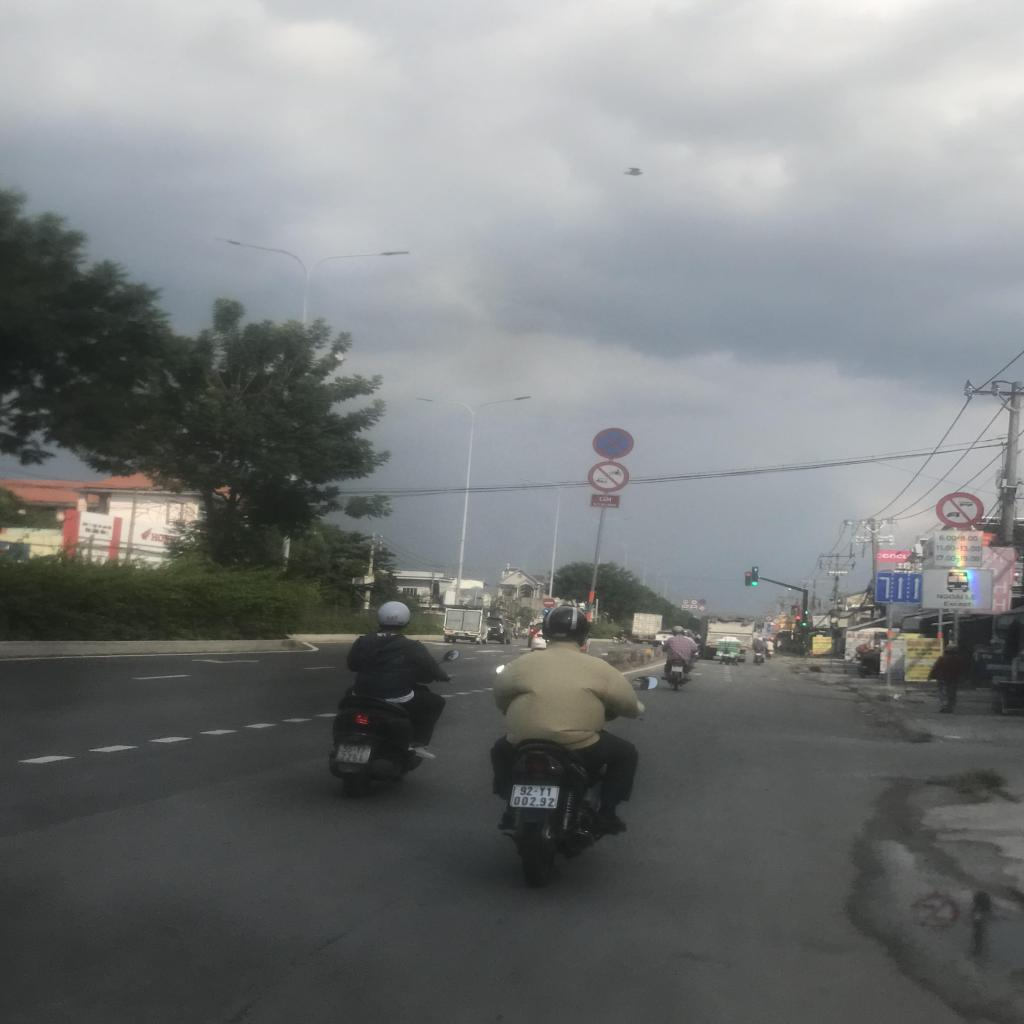cam_cac_loai_xe_3_banh: (774, 618, 780, 624)
cam_dung_xe_va_do_xe: (592, 428, 634, 459), (699, 599, 707, 605)
cam_o_to_tai_va_xe_khach: (934, 492, 984, 528), (765, 616, 772, 622)
cam_xe_2_banh_va_xe_3_banh_co_dong_co: (587, 460, 629, 493), (698, 605, 706, 611)
huong_di_tren_moi_lan_duong_theo_vach_ke_duong: (875, 572, 922, 604)
khac: (922, 570, 992, 609), (934, 530, 983, 566), (682, 604, 688, 608), (691, 605, 697, 608), (682, 607, 688, 610), (690, 608, 697, 610)
object: (543, 598, 554, 607), (541, 608, 552, 616)
toc_do_toi_da_60: (691, 600, 698, 604)
toc_do_toi_da_80: (682, 599, 688, 604)
